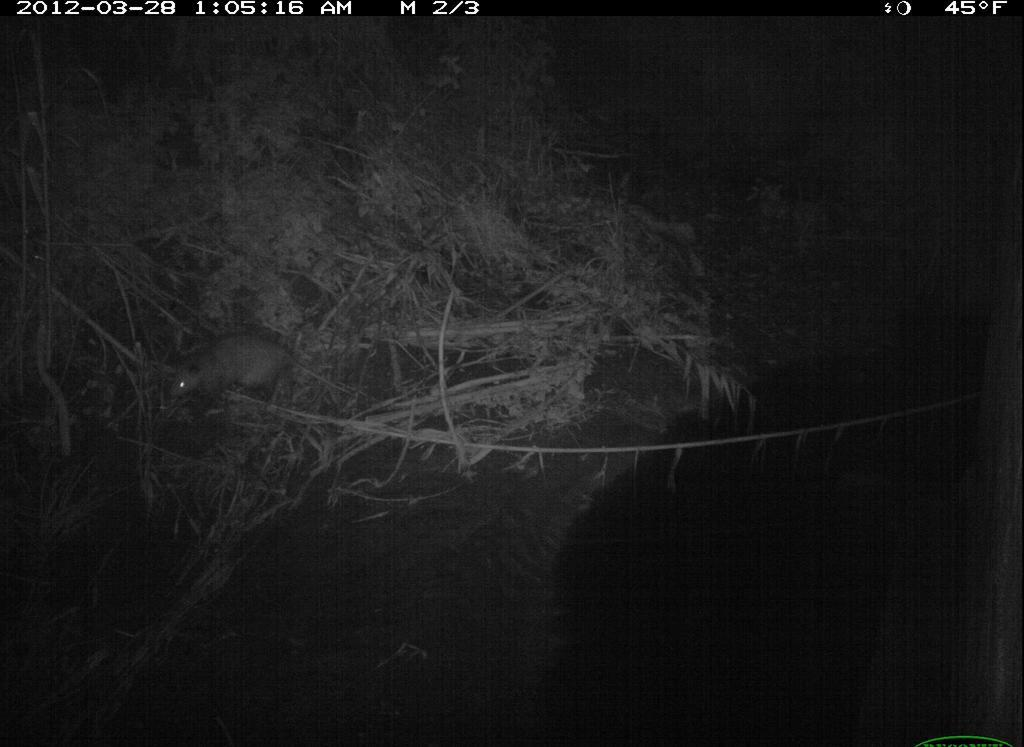opossum: (146, 328, 360, 420)
